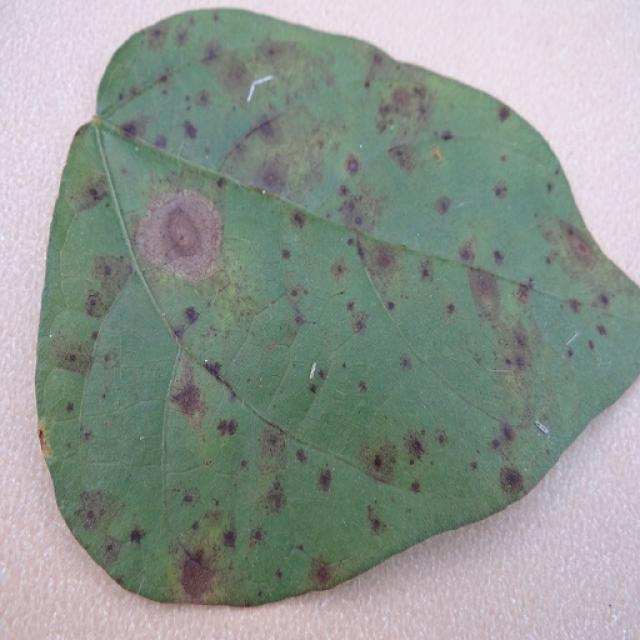Anthracnose: (267, 354, 334, 428), (537, 216, 604, 281), (45, 415, 92, 488), (374, 84, 431, 140), (85, 255, 134, 317), (356, 235, 405, 296), (333, 181, 387, 236), (248, 305, 299, 362), (61, 160, 111, 218), (75, 487, 121, 536), (497, 318, 535, 377), (50, 328, 95, 374), (164, 374, 207, 421), (466, 266, 502, 322), (113, 541, 155, 587), (362, 440, 402, 487), (178, 556, 219, 601), (164, 209, 204, 254), (252, 153, 295, 194), (256, 38, 307, 71), (273, 547, 313, 589), (219, 56, 259, 96), (165, 301, 203, 342), (487, 424, 520, 468), (203, 363, 239, 401), (113, 113, 153, 147), (192, 270, 230, 300), (385, 142, 419, 173), (345, 300, 370, 336), (144, 20, 170, 52), (306, 361, 329, 394), (499, 466, 525, 495), (264, 482, 286, 515), (389, 88, 416, 113), (98, 539, 122, 566), (84, 291, 107, 319), (404, 434, 426, 463), (366, 504, 386, 533), (201, 40, 224, 64), (256, 117, 278, 140), (287, 284, 309, 307), (313, 561, 333, 585), (516, 278, 535, 303), (216, 417, 238, 438), (181, 546, 203, 567), (330, 259, 349, 281), (317, 467, 333, 493), (434, 195, 452, 215), (102, 349, 120, 369), (265, 430, 283, 449), (248, 527, 264, 548), (182, 119, 198, 140), (205, 360, 223, 378), (222, 527, 237, 548), (128, 527, 144, 546), (500, 423, 516, 442), (493, 181, 509, 199), (195, 89, 211, 107), (38, 427, 49, 453), (345, 155, 360, 174), (184, 306, 200, 323), (89, 112, 105, 129), (291, 211, 306, 229), (497, 105, 511, 123), (568, 298, 583, 314), (295, 447, 308, 464), (420, 262, 432, 280), (492, 249, 505, 265), (459, 248, 473, 262), (399, 356, 412, 371), (534, 421, 549, 434), (410, 480, 422, 494), (596, 324, 608, 336), (357, 380, 368, 393), (436, 433, 447, 446), (82, 428, 93, 441), (445, 303, 456, 315), (216, 177, 227, 189), (182, 492, 193, 503), (289, 287, 300, 298), (281, 248, 291, 260), (65, 401, 75, 413), (468, 460, 478, 472), (102, 264, 112, 275), (275, 569, 284, 580), (267, 47, 277, 56), (333, 290, 345, 297), (346, 237, 355, 246), (587, 340, 595, 350), (566, 348, 574, 358), (212, 12, 220, 22), (500, 154, 508, 163), (248, 539, 256, 548), (256, 590, 263, 598), (178, 233, 185, 241)
Blackgram: (36, 10, 639, 604)
